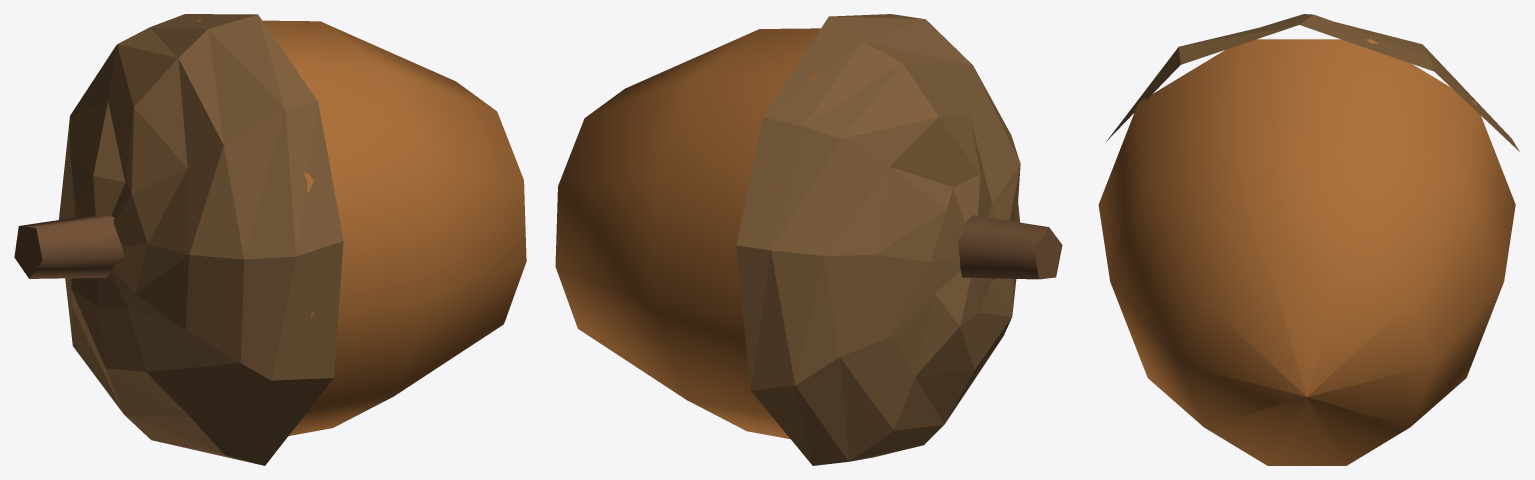
The model's file is acorn.glb.
3 views of the same model, side by side, from view 1: azimuth 30°, elevation 25°; view 2: azimuth 150°, elevation 25°; view 3: azimuth 270°, elevation 25° (orthographic). The views are drawn at different scales.
Parts seen in each view (by area): view 1: group_0; view 2: group_0; view 3: group_0.
Boxes of the visible parts, bbox=[...] form: group_0: bbox=[14, 14, 526, 465]; group_0: bbox=[555, 14, 1062, 465]; group_0: bbox=[1098, 14, 1519, 465].
Bounding box in the file's own units: 5.85 × 4.89 × 4.63.
